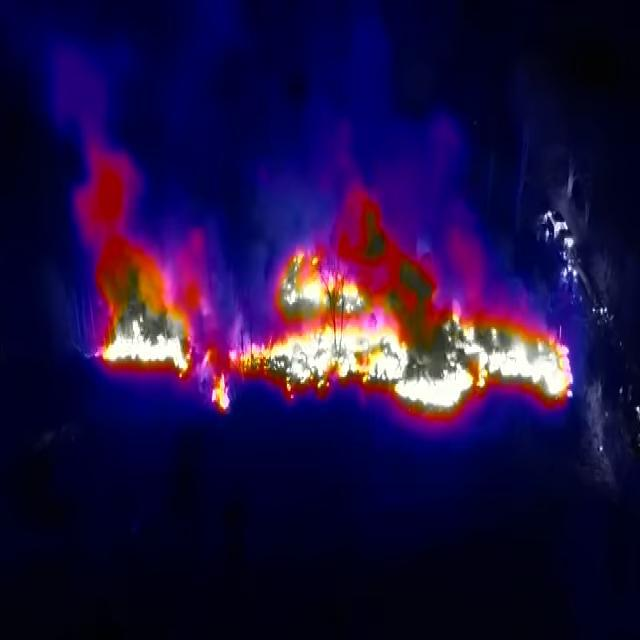fire: (212, 203, 574, 417), (93, 237, 201, 383)
